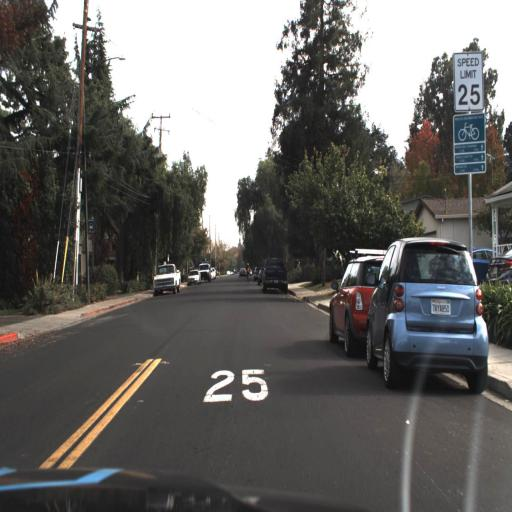car: (365, 231, 489, 389), (325, 254, 384, 358), (260, 250, 289, 293), (150, 264, 182, 294)
